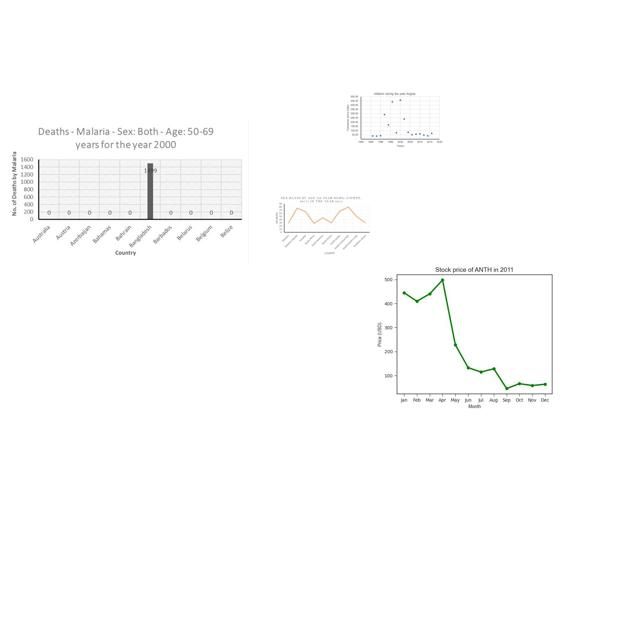Graph: (4, 120, 249, 266), (369, 256, 575, 411), (272, 195, 372, 255), (346, 92, 443, 148)
